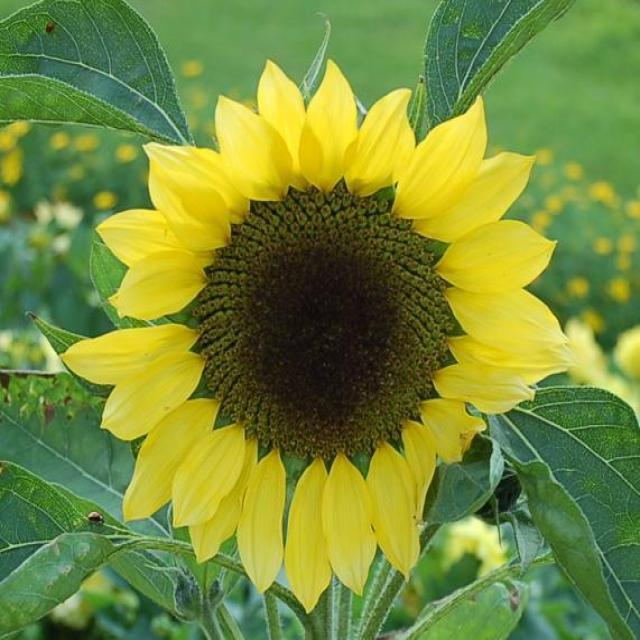sunflower: (58, 51, 600, 640)
